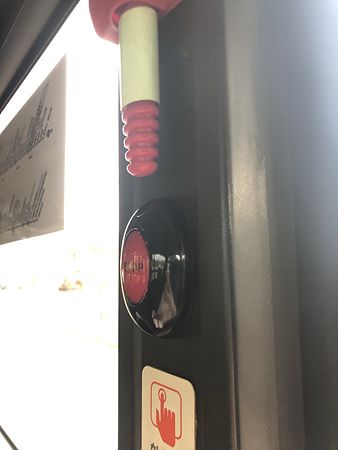bell: (120, 196, 193, 337)
